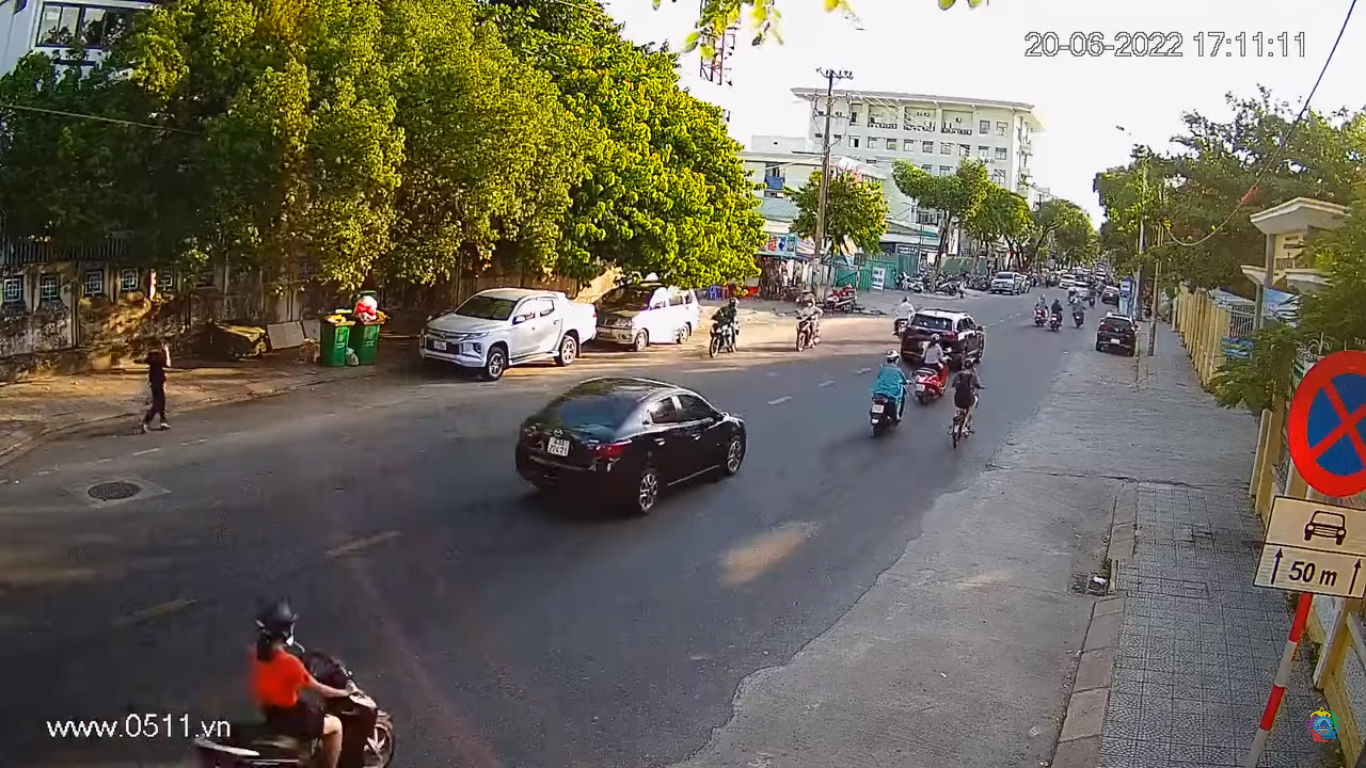car: (510, 375, 752, 513)
